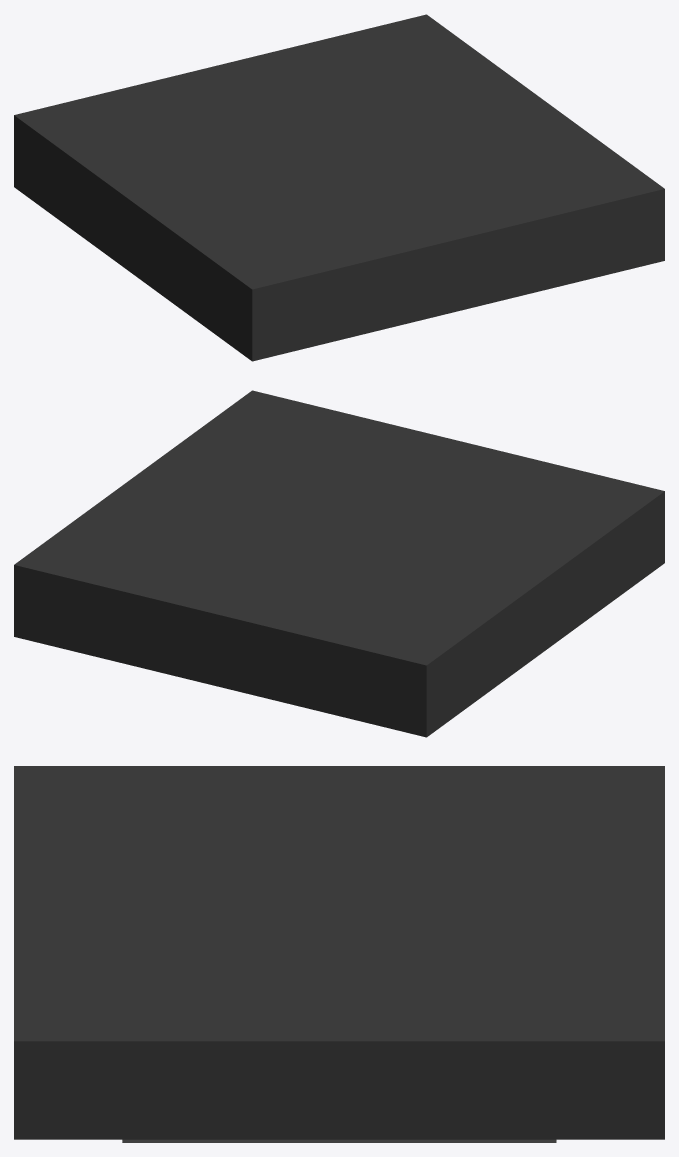
File: light.gltf
3 renders of one model, top to bottom at view 1: azimuth 30°, elevation 25°; view 2: azimuth 150°, elevation 25°; view 3: azimuth 270°, elevation 25°, orthographic. The views are drawn at different scales.
Parts seen in each view (by area): view 1: cube; view 2: cube; view 3: cube, OFF.
Part boxes in pixels (x1=…): cube: x1=14, y1=14, x2=664, y2=361; cube: x1=14, y1=390, x2=664, y2=737; cube: x1=14, y1=766, x2=664, y2=1139; OFF: x1=122, y1=1139, x2=556, y2=1142.
Size of the model in its own units: 0.375 by 0.0938 by 0.375.
Materials: 1 (1 with a texture image).
